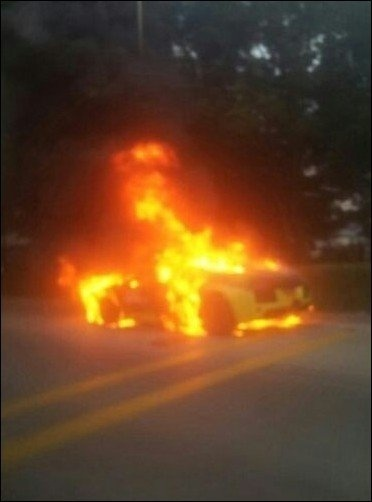fire: (56, 135, 304, 345)
